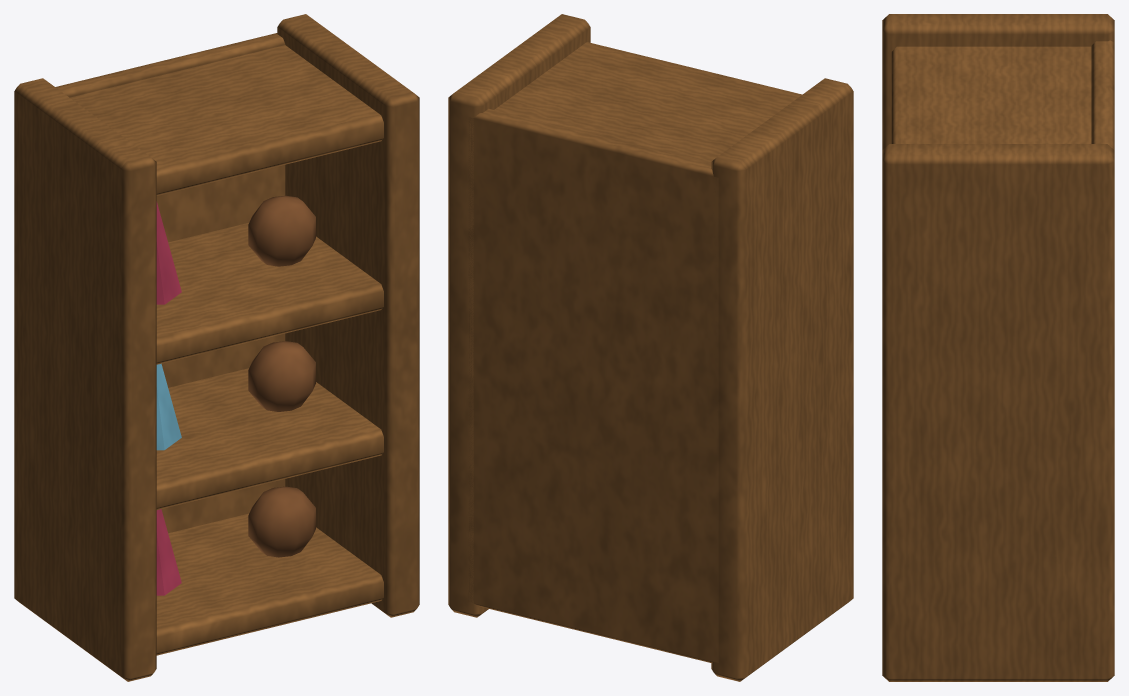
Rendered from Furn_DecorTreasure.fbx.
3 renders of one model, left to right at view 1: azimuth 30°, elevation 25°; view 2: azimuth 150°, elevation 25°; view 3: azimuth 270°, elevation 25°, orthographic.
Parts seen in each view (by area): view 1: Furn_DecorTreasure_Mesh; view 2: Furn_DecorTreasure_Mesh; view 3: Furn_DecorTreasure_Mesh.
Boxes of the visible parts, box(x1,y1,x2,y2) form: Furn_DecorTreasure_Mesh: box(14, 14, 419, 681); Furn_DecorTreasure_Mesh: box(448, 14, 853, 681); Furn_DecorTreasure_Mesh: box(882, 14, 1114, 681).
Size of the model in its own units: 0.6 by 1 by 0.4.
4 materials, 4 textured.
